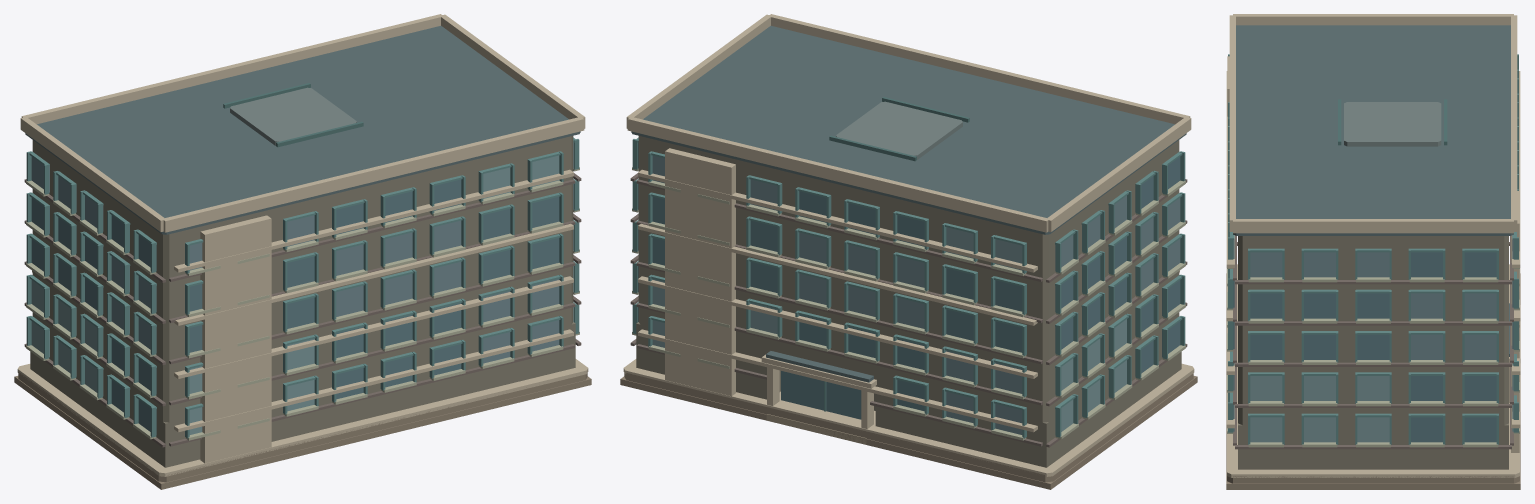
3 renders of one model, left to right at view 1: azimuth 30°, elevation 25°; view 2: azimuth 150°, elevation 25°; view 3: azimuth 270°, elevation 25°, orthographic.
Parts seen in each view (by area): view 1: form, relief, glaze, glowing; view 2: form, relief, glaze, glowing; view 3: form, glaze, relief, glowing.
Part boxes in pixels (bbox=[...]): form: bbox=[14, 14, 591, 489]; relief: bbox=[26, 137, 579, 440]; glaze: bbox=[31, 143, 573, 434]; glowing: bbox=[85, 179, 510, 328]; form: bbox=[620, 14, 1197, 489]; relief: bbox=[632, 137, 1185, 440]; glaze: bbox=[638, 143, 1180, 434]; glowing: bbox=[750, 215, 1126, 381]; form: bbox=[1226, 14, 1520, 489]; glaze: bbox=[1233, 235, 1513, 442]; relief: bbox=[1227, 54, 1519, 447]; glowing: bbox=[1357, 334, 1389, 359].
Size of the model in its own units: 22 by 13 by 13.
